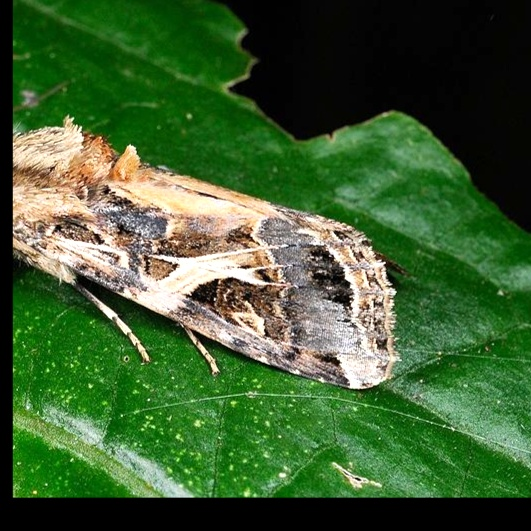Spodoptera litura: (13, 79, 407, 389)
